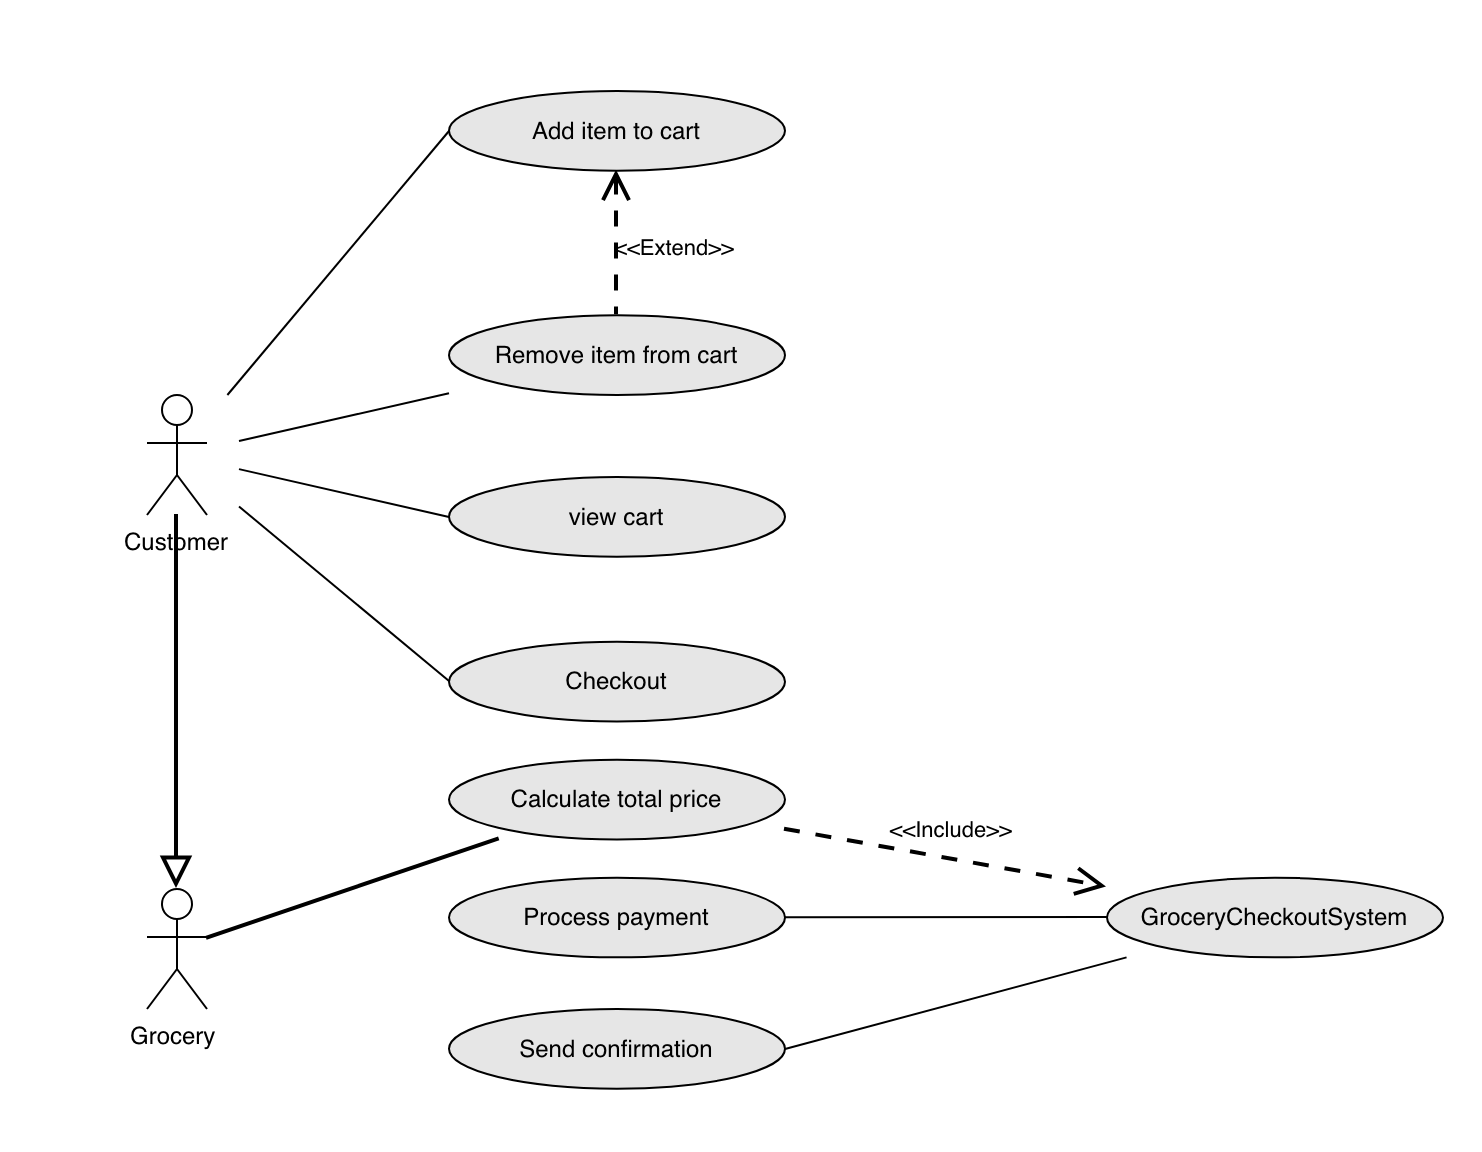actor: (140, 386, 214, 521), (147, 883, 211, 1011)
association: (229, 131, 447, 398), (239, 505, 447, 681), (788, 954, 1127, 1050), (204, 833, 502, 943), (779, 823, 1110, 899), (158, 517, 198, 892), (787, 898, 1108, 938), (236, 463, 447, 521), (242, 391, 447, 443), (595, 172, 635, 314)
text: (1139, 899, 1416, 936), (518, 892, 725, 939), (502, 780, 734, 821), (512, 1028, 727, 1070), (482, 342, 752, 374), (527, 111, 712, 146), (557, 495, 690, 542), (556, 657, 686, 699), (887, 810, 1016, 848), (617, 230, 739, 266), (120, 524, 238, 557), (121, 1021, 229, 1055)
use_case: (446, 309, 787, 400), (447, 470, 786, 562), (446, 84, 788, 174), (441, 637, 786, 725), (445, 1006, 787, 1094), (1105, 873, 1447, 961), (447, 873, 788, 961), (447, 755, 787, 843)
